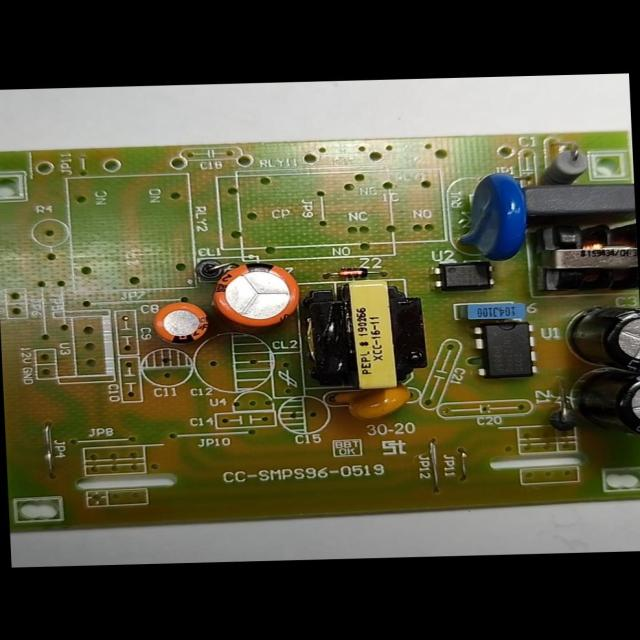Cap1: (207, 257, 303, 329)
Cap2: (152, 301, 212, 345)
Cap3: (558, 304, 639, 378)
Cap4: (564, 370, 640, 444)
MOSFET: (472, 319, 539, 377)
Mov: (447, 172, 532, 262)
Resistor: (532, 146, 592, 184)
Transformer: (301, 276, 428, 394), (531, 217, 638, 296)
